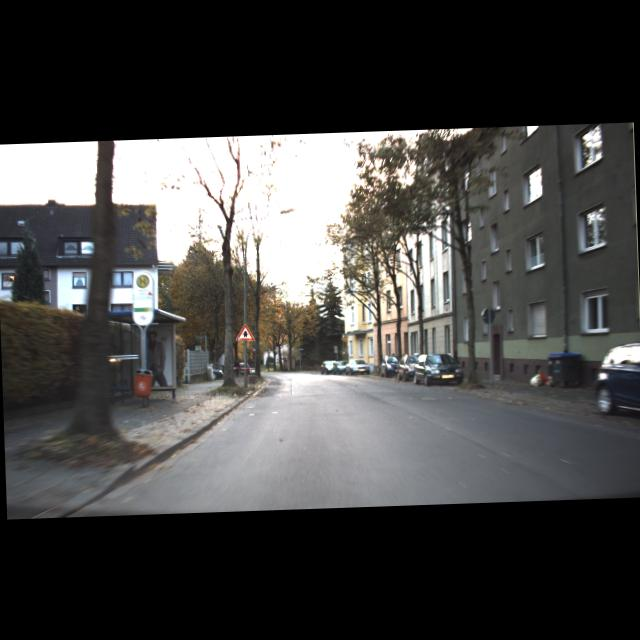danger: (234, 322, 254, 339)
